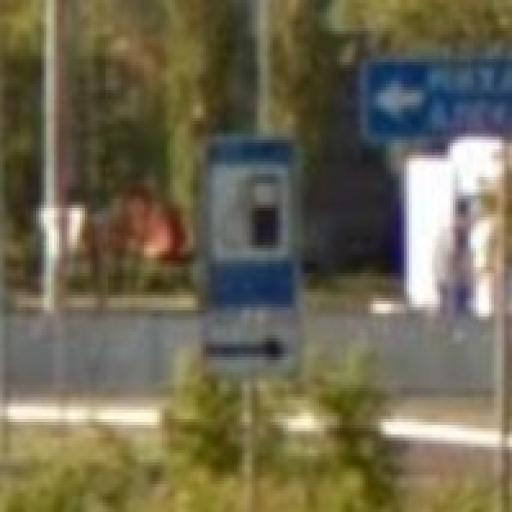traffic_sign: (204, 134, 302, 324)
